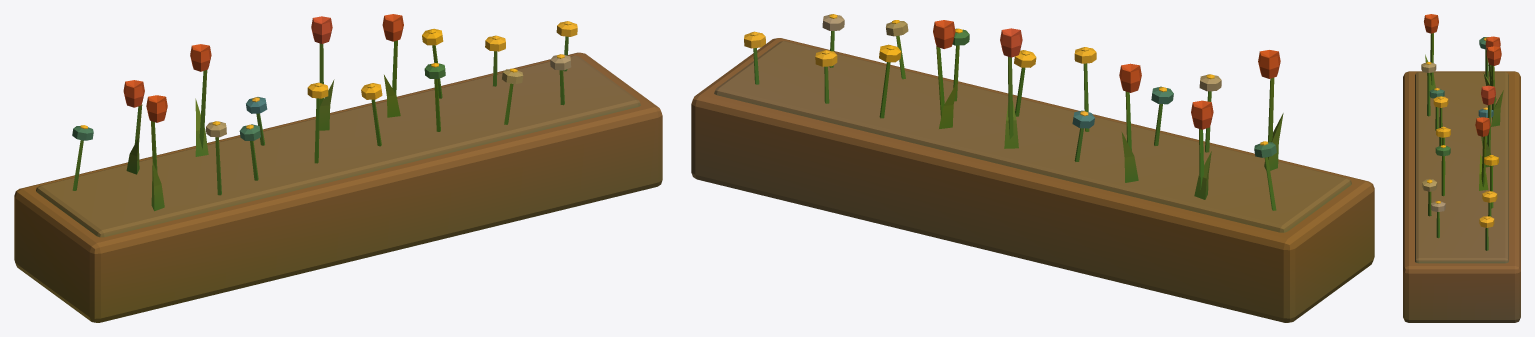
The model's file is FlowerBed_Long_01.fbx.
3 views of the same model, side by side, from view 1: azimuth 30°, elevation 25°; view 2: azimuth 150°, elevation 25°; view 3: azimuth 270°, elevation 25° (orthographic). The views are drawn at different scales.
Visible parts, largest first — view 1: FlowerBed_Long_01; view 2: FlowerBed_Long_01; view 3: FlowerBed_Long_01.
Part boxes in pixels (x1,y1,x2,y2): FlowerBed_Long_01: (14,14,662,322); FlowerBed_Long_01: (691,14,1374,322); FlowerBed_Long_01: (1403,14,1520,322).
Bounding box in the file's own units: 2.4 × 0.7775 × 0.6.
